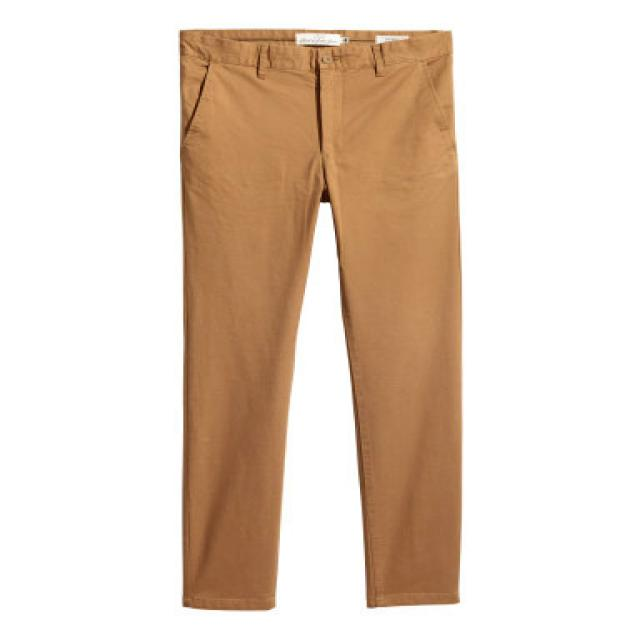long-pants: (182, 33, 465, 613)
